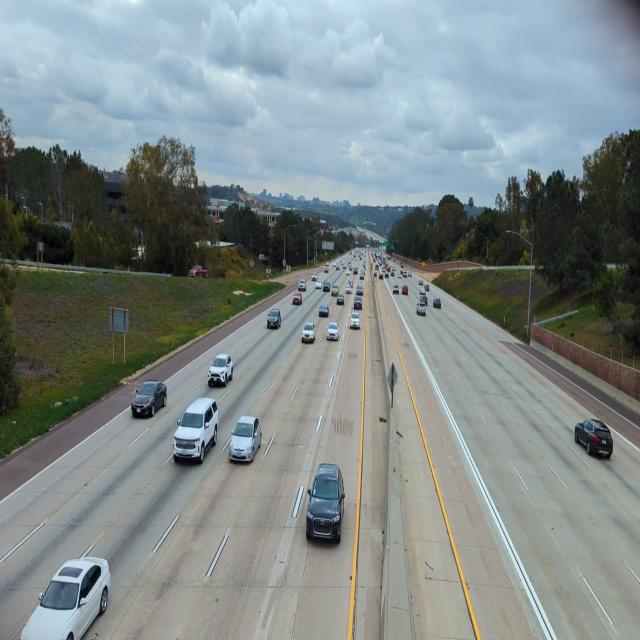car: (19, 551, 113, 640), (172, 395, 220, 461), (306, 460, 344, 541), (570, 413, 618, 458), (231, 416, 260, 460), (209, 353, 235, 388), (134, 380, 167, 400), (300, 324, 316, 344), (265, 308, 281, 328), (348, 311, 361, 329), (328, 324, 340, 342), (416, 302, 427, 316), (317, 304, 328, 316), (293, 295, 304, 306), (354, 294, 362, 309), (432, 297, 442, 309), (298, 279, 306, 291), (335, 296, 344, 306), (320, 286, 330, 294), (356, 284, 364, 294), (392, 284, 400, 294), (402, 283, 408, 295), (332, 284, 338, 295), (345, 285, 352, 294)
